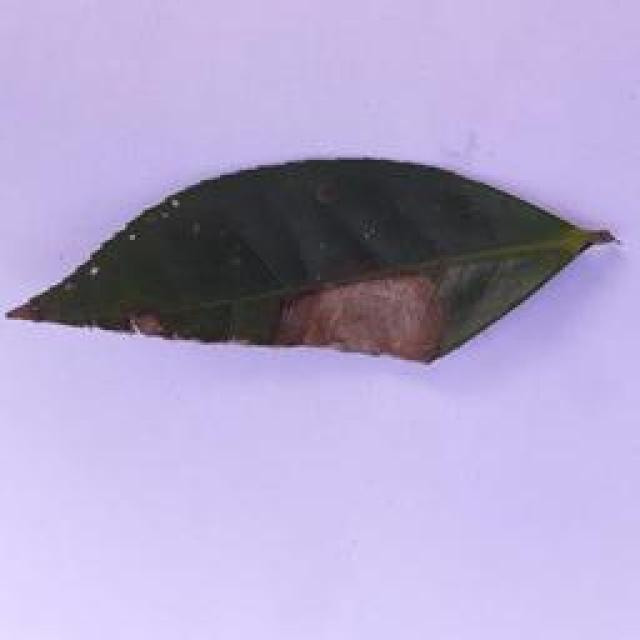Gray Blight: (11, 155, 619, 368)
